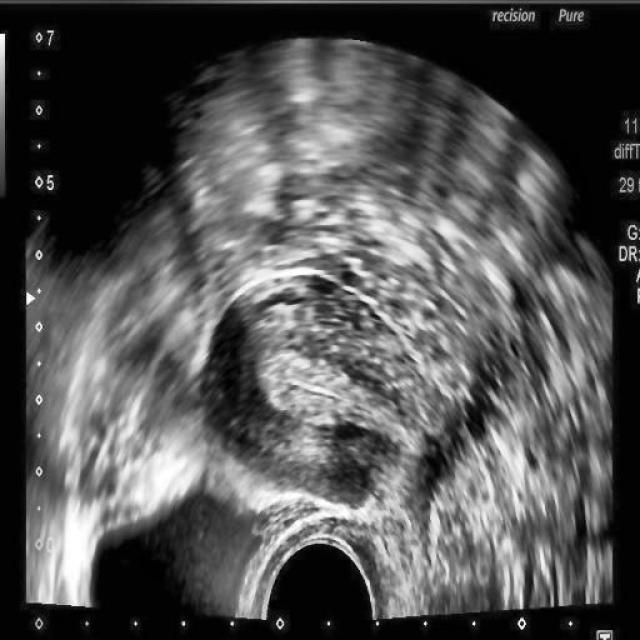non-viable embryo: (24, 34, 616, 624)
